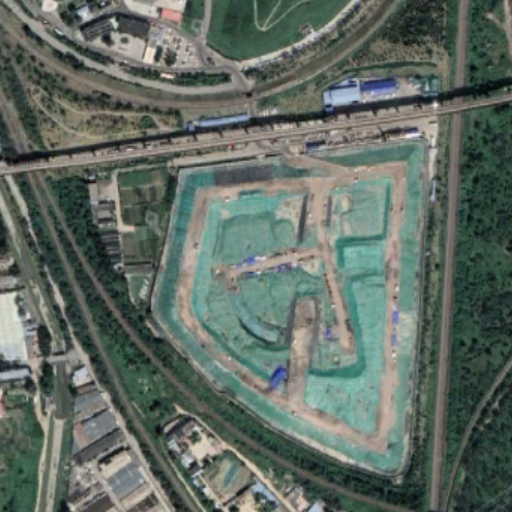cw: (149, 135, 434, 477)
